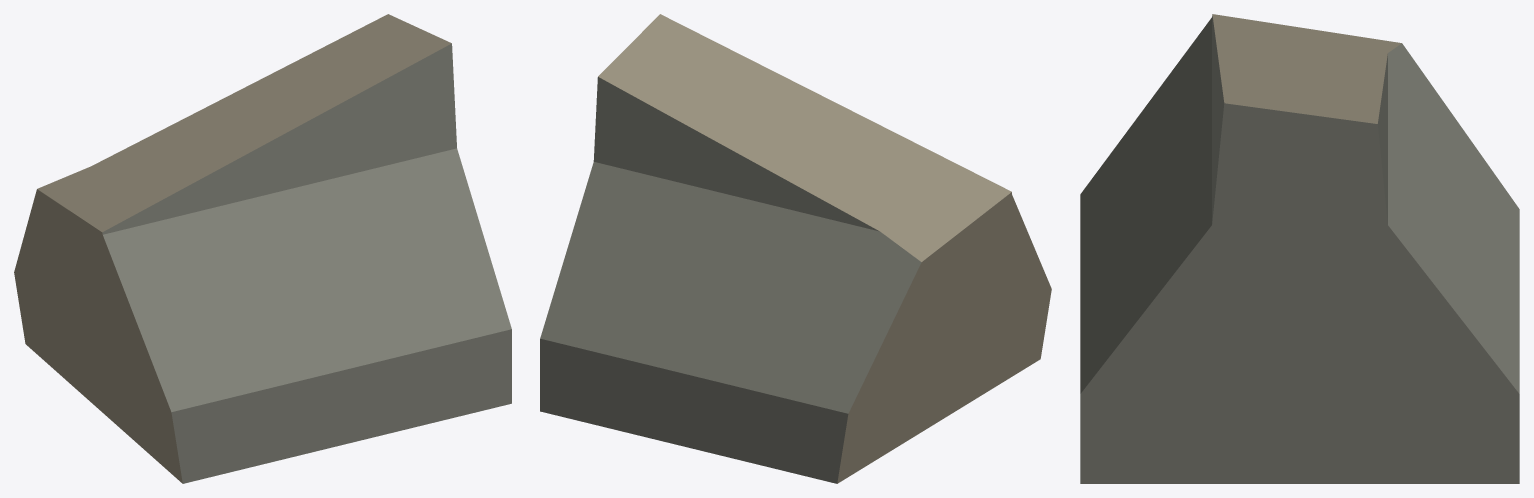
The picture shows the model from 3 angles, left to right: view 1: azimuth 30°, elevation 25°; view 2: azimuth 150°, elevation 25°; view 3: azimuth 270°, elevation 25°; orthographic projection. The views are drawn at different scales.
Visible parts, largest first — view 1: concreto_quebra_5; view 2: concreto_quebra_5; view 3: concreto_quebra_5.
Part boxes in pixels (bbox=[...]): concreto_quebra_5: bbox=[14, 14, 511, 483]; concreto_quebra_5: bbox=[540, 14, 1051, 483]; concreto_quebra_5: bbox=[1080, 14, 1519, 483].
Bounding box in the file's own units: 0.8969 × 0.7647 × 0.8.
Materials: 1 (1 with a texture image).
